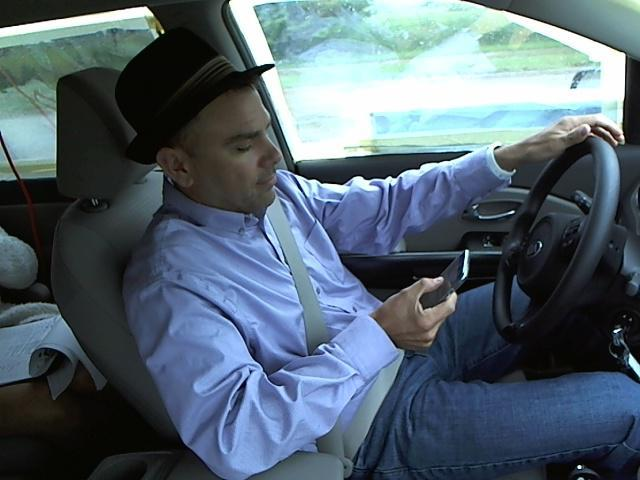PhoneUse: (414, 243, 477, 319)
